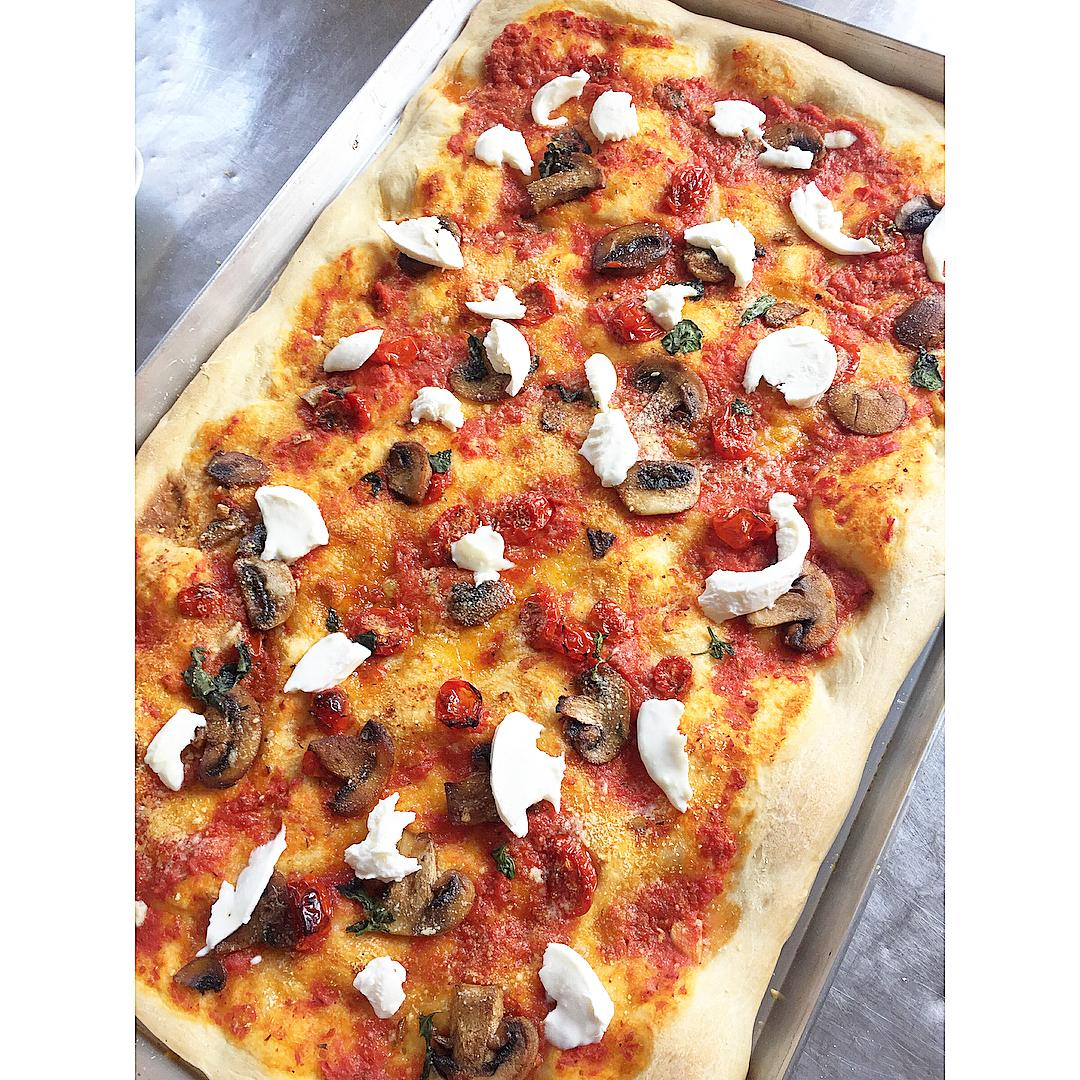Cheese: (201, 820, 286, 949), (494, 712, 565, 834), (742, 325, 840, 411), (538, 941, 612, 1050), (789, 180, 882, 260), (584, 353, 637, 488), (697, 555, 796, 627), (637, 698, 694, 813), (343, 800, 419, 877), (255, 488, 331, 563), (684, 216, 756, 290), (142, 711, 206, 792), (375, 218, 467, 272), (280, 637, 371, 691), (483, 320, 536, 397), (527, 70, 591, 123), (472, 124, 534, 175), (450, 528, 507, 581), (591, 90, 646, 144), (321, 326, 384, 373), (355, 959, 406, 1017), (768, 491, 814, 555), (645, 284, 701, 332), (410, 384, 465, 432), (710, 98, 768, 141), (465, 282, 529, 319), (917, 204, 943, 293), (752, 142, 817, 172)
Mushroom: (417, 981, 538, 1080), (372, 833, 476, 939), (304, 722, 401, 815), (192, 680, 269, 792), (748, 560, 839, 653), (565, 666, 636, 766), (230, 551, 309, 634), (631, 356, 709, 439), (525, 151, 607, 218), (443, 741, 505, 827), (626, 460, 702, 516), (448, 334, 511, 399), (830, 385, 909, 436), (589, 223, 671, 272), (448, 581, 515, 626), (893, 294, 944, 351), (383, 439, 429, 502), (200, 447, 270, 488), (768, 122, 827, 159), (895, 192, 943, 230)
Pizza: (135, 0, 943, 1080)
Tomatoes: (286, 870, 336, 953), (548, 840, 599, 920), (709, 400, 766, 460), (354, 603, 415, 656), (711, 503, 776, 550), (426, 505, 478, 560), (500, 490, 555, 540), (433, 678, 484, 730), (607, 297, 666, 341), (520, 591, 559, 653), (662, 167, 712, 213), (552, 617, 598, 665), (310, 692, 355, 739), (651, 653, 694, 698), (517, 282, 560, 326), (588, 597, 632, 639), (828, 332, 864, 382), (372, 336, 421, 368), (344, 390, 373, 437), (419, 469, 454, 502)
